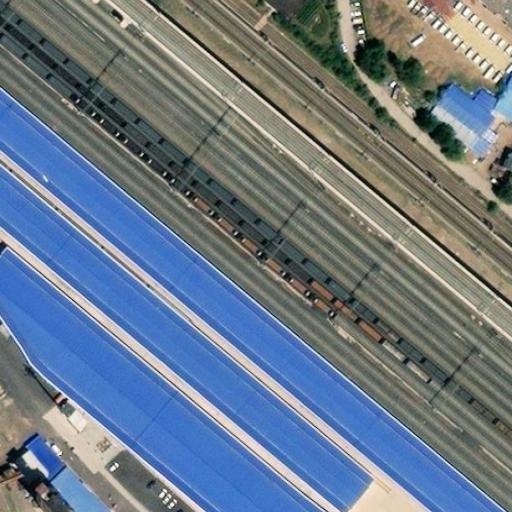building: (0, 106, 484, 512), (62, 410, 131, 473), (27, 456, 102, 512), (437, 91, 500, 154), (425, 110, 492, 168), (111, 456, 179, 512), (472, 0, 512, 31), (492, 91, 512, 133)
